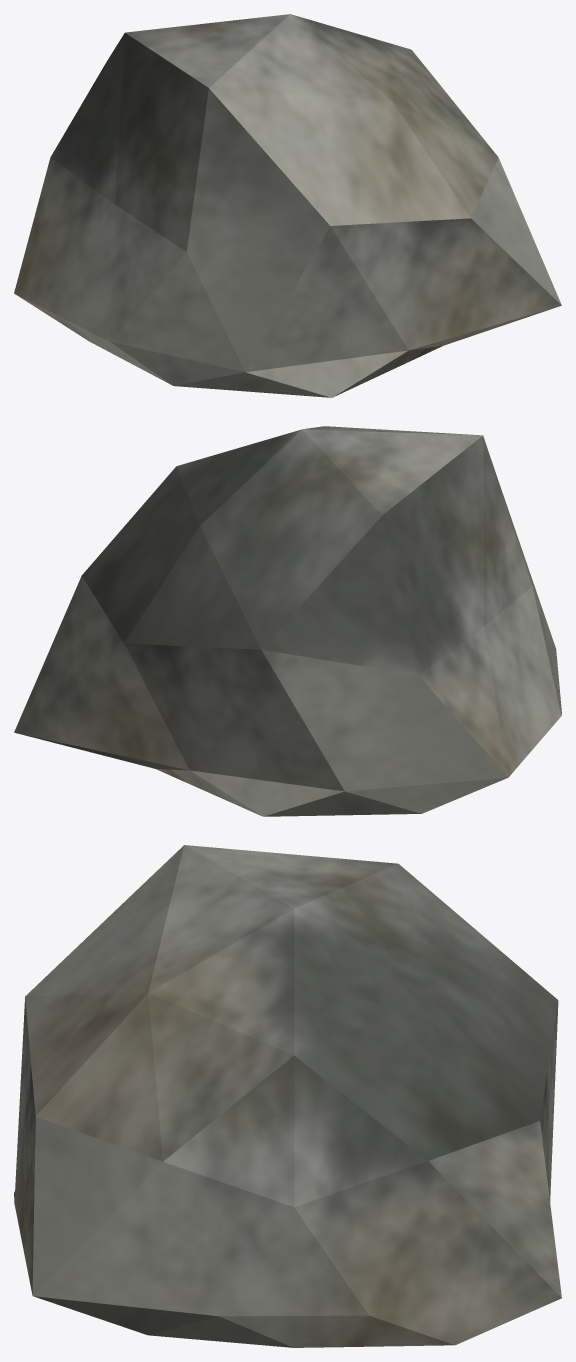
Rendered from terrain2_rock_1.glb.
3 renders of one model, top to bottom at view 1: azimuth 30°, elevation 25°; view 2: azimuth 150°, elevation 25°; view 3: azimuth 270°, elevation 25°, orthographic. The views are drawn at different scales.
Parts seen in each view (by area): view 1: terrain2_rock_1.glb; view 2: terrain2_rock_1.glb; view 3: terrain2_rock_1.glb.
Boxes of the visible parts, <box> form: terrain2_rock_1.glb: <box>14,14,561,397</box>; terrain2_rock_1.glb: <box>14,426,561,816</box>; terrain2_rock_1.glb: <box>14,845,561,1347</box>.
Size of the model in its own units: 2.6 by 1.6 by 2.41.
1 material, 1 textured.
